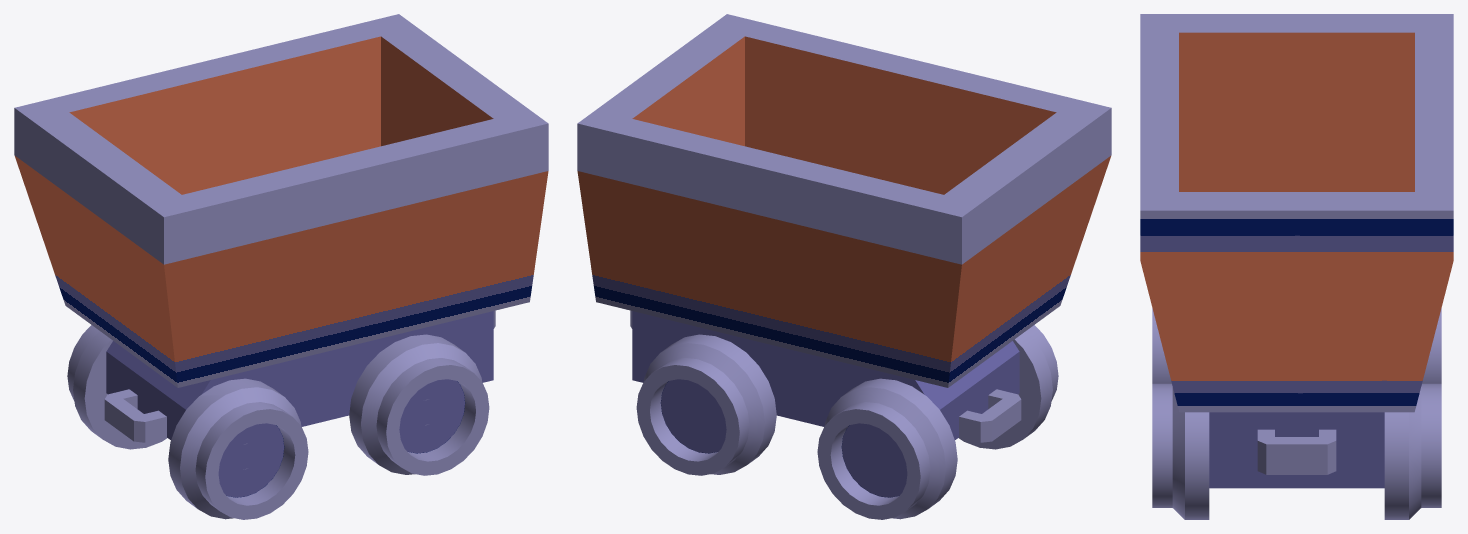
The model's file is vagon.glb.
The picture shows the model from 3 angles, left to right: view 1: azimuth 30°, elevation 25°; view 2: azimuth 150°, elevation 25°; view 3: azimuth 270°, elevation 25°; orthographic projection. The views are drawn at different scales.
Visible parts, largest first — view 1: cart; view 2: cart; view 3: cart.
Part boxes in pixels (<box>): cart: <box>14,14,548,519</box>; cart: <box>577,14,1111,519</box>; cart: <box>1140,14,1453,519</box>.
Size of the model in its own units: 0.5414 by 0.4489 by 0.3581.
1 material, 1 textured.
